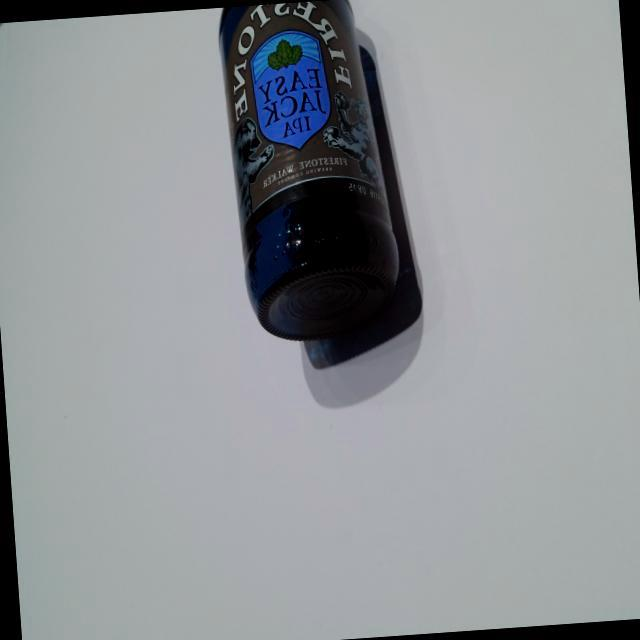glass: (210, 0, 418, 358)
